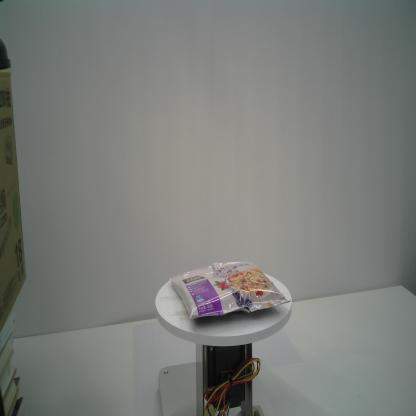Instant Drink: (169, 260, 292, 320)
